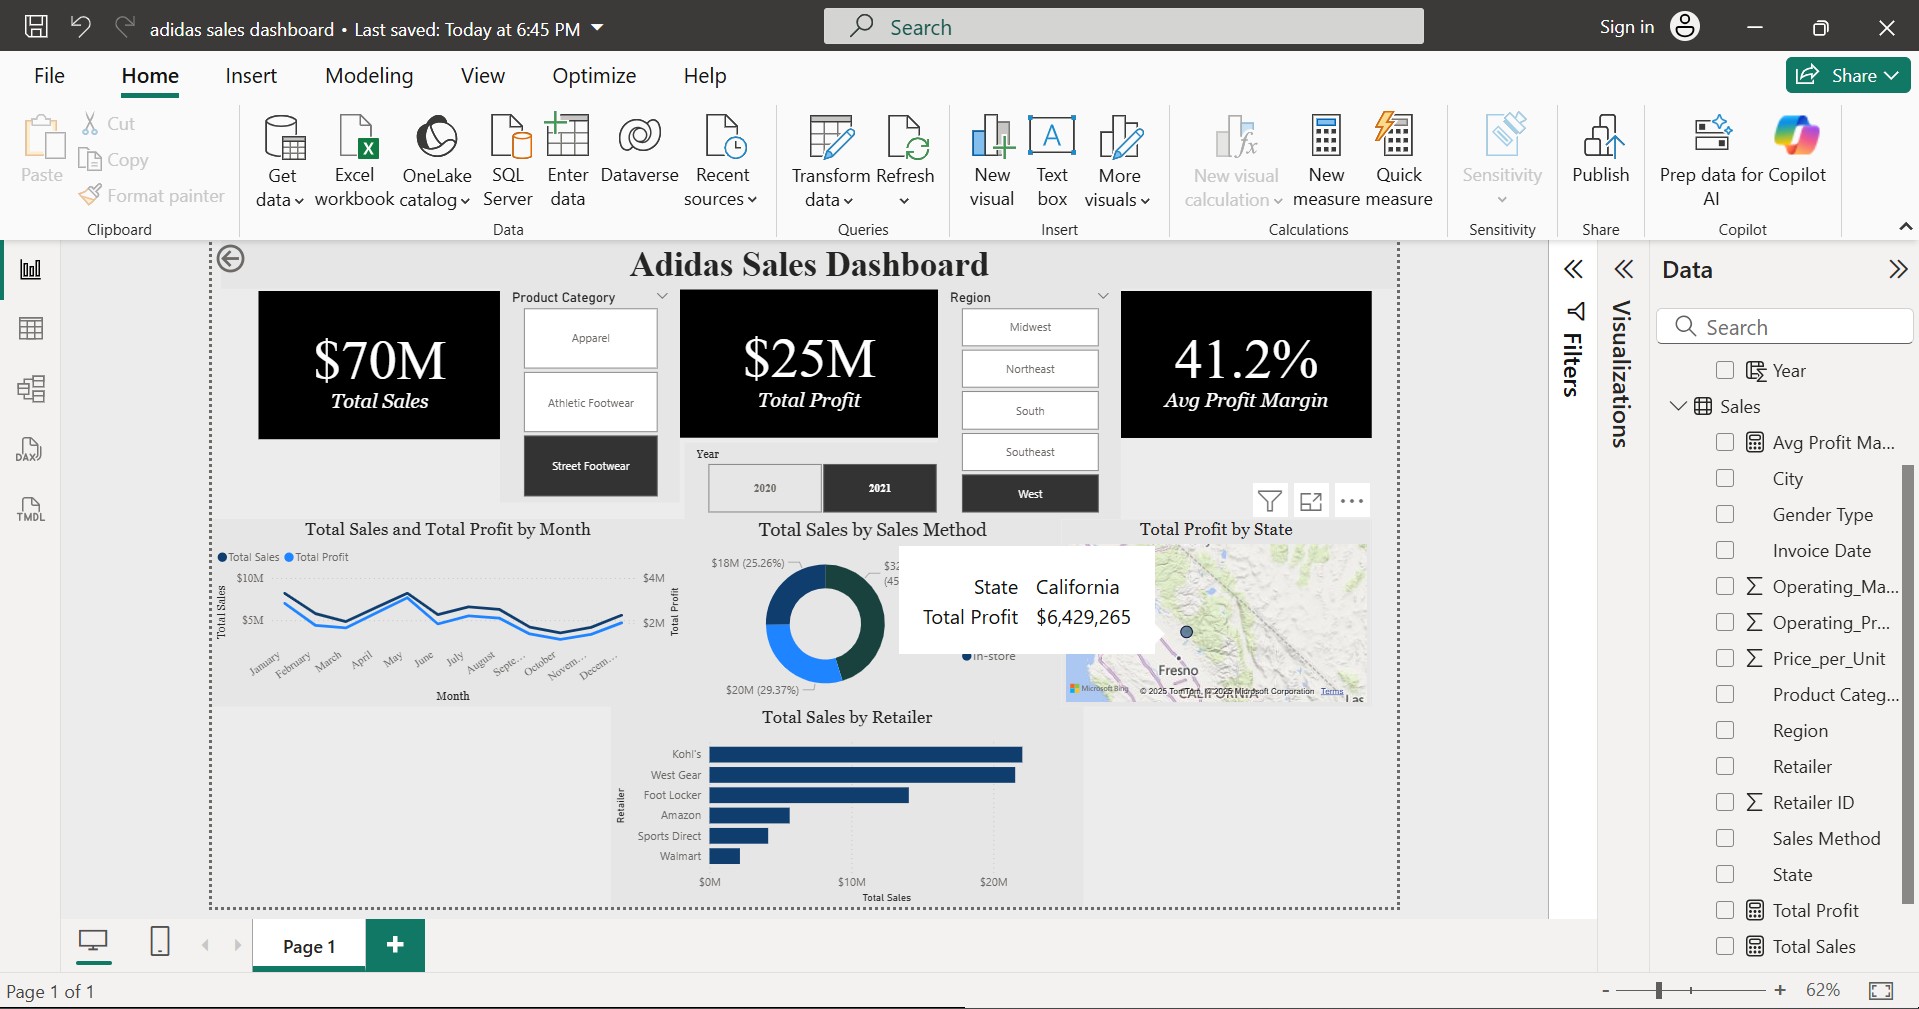

What the dashboard file says about the page in this screenshot:
{"tool":"powerbi","page":{"name":"Page 1","canvas":[1280,720],"ordinal":0},"visuals":[{"type":"textbox","box":[9.4,0,1269.9,52.9],"z":0},{"type":"card","fields":{"Values":["Sales.Total Sales"]},"box":[50.2,55.1,260.7,160.3],"z":1},{"type":"card","fields":{"Values":["Sales.Total Profit"]},"box":[505.2,53.4,278.5,160.3],"z":2},{"type":"card","fields":{"Values":["Sales.Avg Profit Margin"]},"box":[981.3,55.1,270.4,158.7],"z":3},{"type":"slicer","fields":{"Values":["Dates.Year"]},"box":[510.1,218.6,296.3,82.6],"z":4},{"type":"slicer","fields":{"Values":["Sales.Region"]},"box":[783.7,48.6,197.5,252.6],"z":5},{"type":"actionButton","box":[0,0,100,40],"z":6},{"type":"slicer","fields":{"Values":["Sales.Product Category"]},"box":[310.9,48.6,194.3,234.8],"z":7},{"type":"lineChart","fields":{"Category":["Dates.Month"],"Y":["Sales.Total Sales"],"Y2":["Sales.Total Profit"]},"box":[0,301.2,510.1,202.4],"z":8},{"type":"donutChart","fields":{"Category":["Sales.Sales Method"],"Y":["Sales.Total Sales"]},"box":[510.1,301.2,406.4,202.4],"z":9},{"type":"map","fields":{"Category":["Sales.State"],"Size":["Sales.Total Profit"]},"box":[916.5,301.2,335.2,202.4],"z":10},{"type":"barChart","fields":{"Category":["Sales.Retailer"],"Y":["Sales.Total Sales"]},"box":[430.7,503.6,510.1,217],"z":11}]}

Visuals, with their boxes on the page's 1280x720 design canvas (x1, y1, x2, y2). These are canvas units, not pixel positions in the 1919x1009 screenshot, which may show the page scaled, cropped or inside an application window:
textbox: {"x1": 9, "y1": 0, "x2": 1279, "y2": 53}
card - Sales.Total Sales: {"x1": 50, "y1": 55, "x2": 311, "y2": 215}
card - Sales.Total Profit: {"x1": 505, "y1": 53, "x2": 784, "y2": 214}
card - Sales.Avg Profit Margin: {"x1": 981, "y1": 55, "x2": 1252, "y2": 214}
slicer - Dates.Year: {"x1": 510, "y1": 219, "x2": 806, "y2": 301}
slicer - Sales.Region: {"x1": 784, "y1": 49, "x2": 981, "y2": 301}
actionButton: {"x1": 0, "y1": 0, "x2": 100, "y2": 40}
slicer - Sales.Product Category: {"x1": 311, "y1": 49, "x2": 505, "y2": 283}
lineChart - Dates.Month x Sales.Total Sales: {"x1": 0, "y1": 301, "x2": 510, "y2": 504}
donutChart - Sales.Sales Method x Sales.Total Sales: {"x1": 510, "y1": 301, "x2": 916, "y2": 504}
map - Sales.State x Sales.Total Profit: {"x1": 916, "y1": 301, "x2": 1252, "y2": 504}
barChart - Sales.Retailer x Sales.Total Sales: {"x1": 431, "y1": 504, "x2": 941, "y2": 721}
